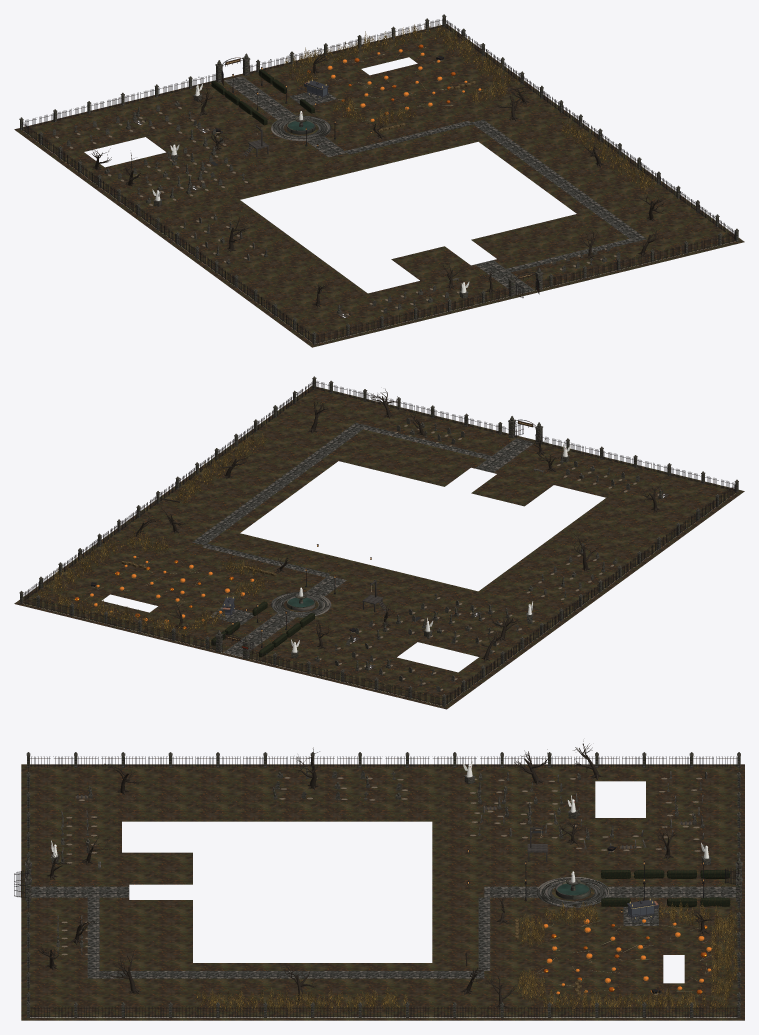
Rendered from grounds_v13.glb.
3 renders of one model, top to bottom at view 1: azimuth 30°, elevation 25°; view 2: azimuth 150°, elevation 25°; view 3: azimuth 270°, elevation 25°, orthographic. The views are drawn at different scales.
Parts seen in each view (by area): view 1: grounds; view 2: grounds; view 3: grounds.
Boxes of the visible parts, x1,y1,x2,y2 form: grounds: (14,14,744,347); grounds: (14,376,744,709); grounds: (14,741,744,1020).
Size of the model in its own units: 102 by 8.37 by 123.
32 materials, 22 textured.
